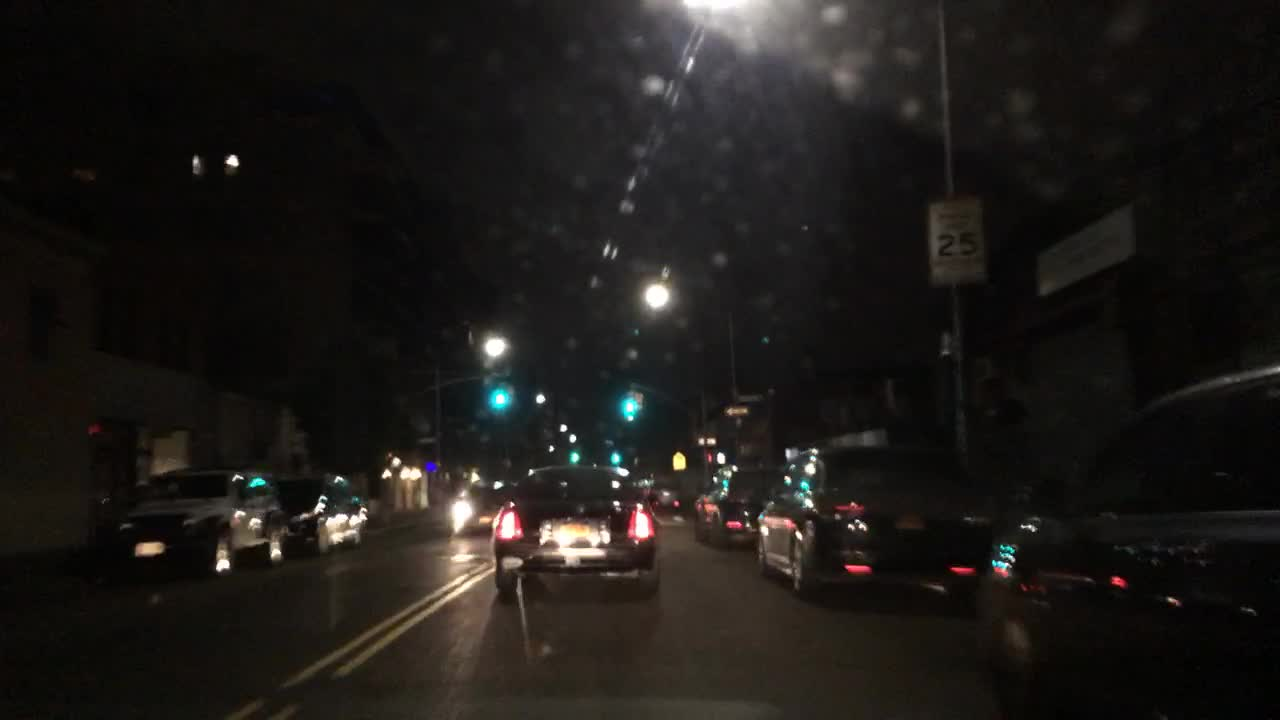car: (975, 364, 1277, 718), (753, 446, 995, 608), (491, 466, 661, 593), (107, 465, 286, 573), (274, 474, 368, 557), (692, 464, 786, 547), (449, 486, 511, 534), (646, 479, 681, 516)
traffic light: (505, 384, 516, 408), (494, 381, 505, 404), (625, 390, 635, 411), (636, 391, 643, 413), (610, 451, 621, 464), (716, 451, 726, 465), (571, 447, 577, 465)
traffic sign: (930, 198, 984, 280), (671, 451, 686, 471), (726, 405, 748, 416), (736, 393, 766, 401), (697, 437, 716, 444)
